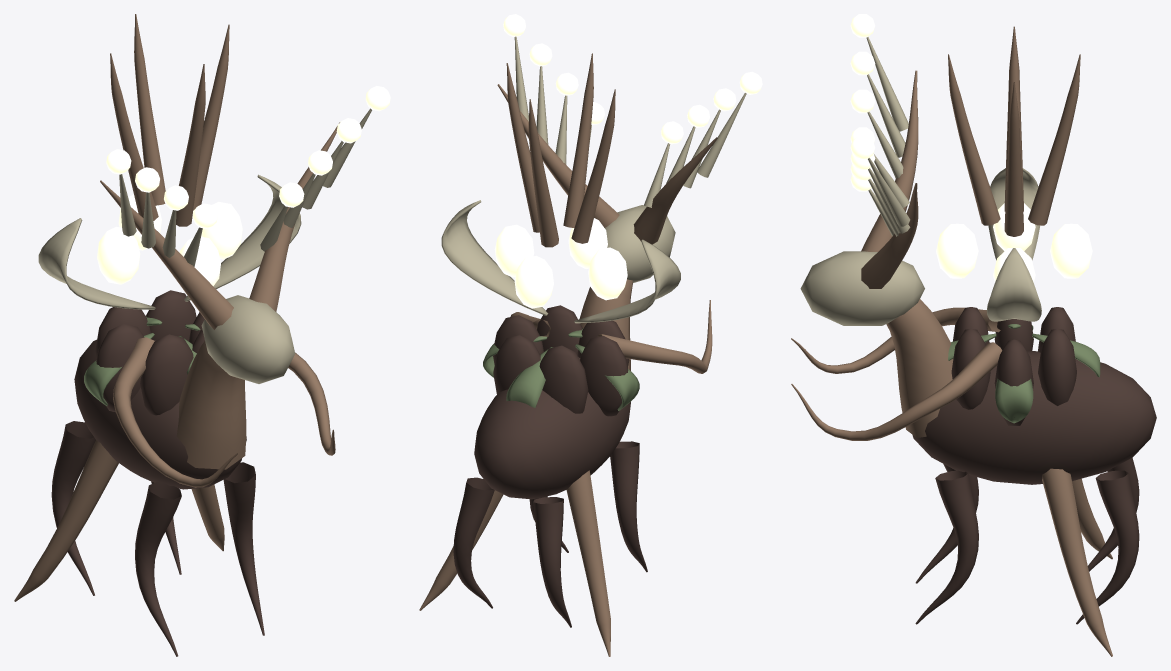
Rendered from ashen_hart.glb.
The picture shows the model from 3 angles, left to right: view 1: azimuth 30°, elevation 25°; view 2: azimuth 150°, elevation 25°; view 3: azimuth 270°, elevation 25°; orthographic projection. The views are drawn at different scales.
Visible parts, largest first — view 1: Burned neck, Mobility frill, Layered bark plate, Crown growth, EnemyCore, Enlarged spore sac, Extended strike tendril, Charred hoof.001, Charred hoof, Charred hoof.003, Older leaf; view 2: Burned neck, EnemyCore, Mobility frill, Layered bark plate, Crown growth, Enlarged spore sac, Charred hoof.003, Charred hoof.001, Charred hoof.002, Older leaf, Extended strike tendril; view 3: Burned neck, EnemyCore, Mobility frill, Crown growth, Layered bark plate, Enlarged spore sac, Extended strike tendril, Charred hoof, Charred hoof.002, Older leaf, Charred hoof.003, Charred hoof.001.
Part boxes in pixels (<box>): Burned neck: <box>100,86,390,469</box>; Mobility frill: <box>14,174,301,601</box>; Layered bark plate: <box>95,290,204,415</box>; Crown growth: <box>110,14,229,226</box>; EnemyCore: <box>74,339,246,489</box>; Enlarged spore sac: <box>97,194,242,286</box>; Extended strike tendril: <box>113,337,335,487</box>; Charred hoof.001: <box>135,482,181,656</box>; Charred hoof: <box>223,462,264,635</box>; Charred hoof.003: <box>51,421,95,595</box>; Older leaf: <box>84,316,200,405</box>; Burned neck: <box>497,14,762,370</box>; EnemyCore: <box>474,357,630,499</box>; Mobility frill: <box>419,200,680,656</box>; Layered bark plate: <box>493,305,629,416</box>; Crown growth: <box>506,53,615,247</box>; Enlarged spore sac: <box>494,218,627,308</box>; Charred hoof.003: <box>533,497,571,627</box>; Charred hoof.001: <box>610,441,647,572</box>; Charred hoof.002: <box>453,477,494,608</box>; Older leaf: <box>483,328,639,410</box>; Extended strike tendril: <box>510,300,712,373</box>; Burned neck: <box>800,14,953,437</box>; EnemyCore: <box>912,351,1156,484</box>; Mobility frill: <box>986,168,1112,656</box>; Crown growth: <box>948,26,1080,236</box>; Layered bark plate: <box>951,307,1076,425</box>; Enlarged spore sac: <box>936,203,1092,282</box>; Extended strike tendril: <box>791,307,1002,440</box>; Charred hoof: <box>915,470,978,624</box>; Charred hoof.002: <box>1076,470,1139,624</box>; Older leaf: <box>948,324,1100,423</box>; Charred hoof.003: <box>1088,457,1139,571</box>; Charred hoof.001: <box>915,464,978,583</box>.
Bounding box in the file's own units: 1.75 × 3.43 × 2.05.
